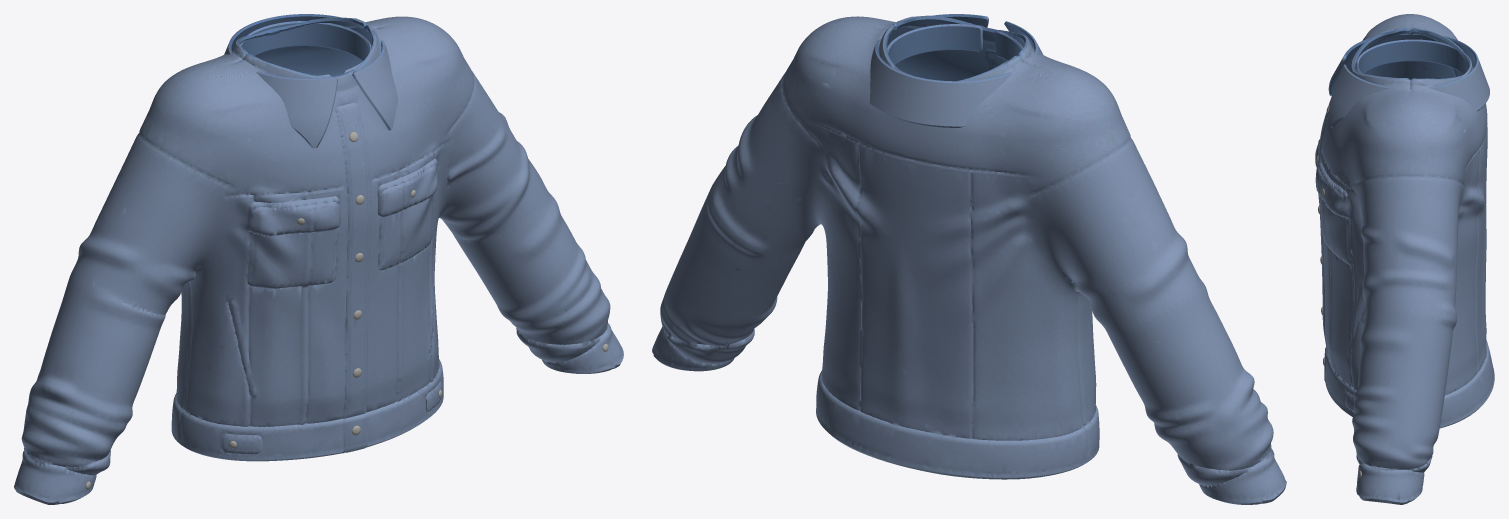
File: 03_chaqueta_vaquera_pbr.glb
3 views of the same model, side by side, from view 1: azimuth 30°, elevation 25°; view 2: azimuth 150°, elevation 25°; view 3: azimuth 270°, elevation 25° (orthographic). The views are drawn at different scales.
Parts seen in each view (by area): view 1: Camiseta PBR, Punteras y ojales; view 2: Camiseta PBR; view 3: Camiseta PBR.
Part boxes in pixels (x1,y1,x2,y2): Camiseta PBR: [14, 14, 623, 504]; Punteras y ojales: [85, 132, 608, 489]; Camiseta PBR: [652, 14, 1286, 504]; Camiseta PBR: [1315, 14, 1494, 504].
Size of the model in its own units: 1.01 by 0.6095 by 0.3025.
2 materials, 1 textured.
